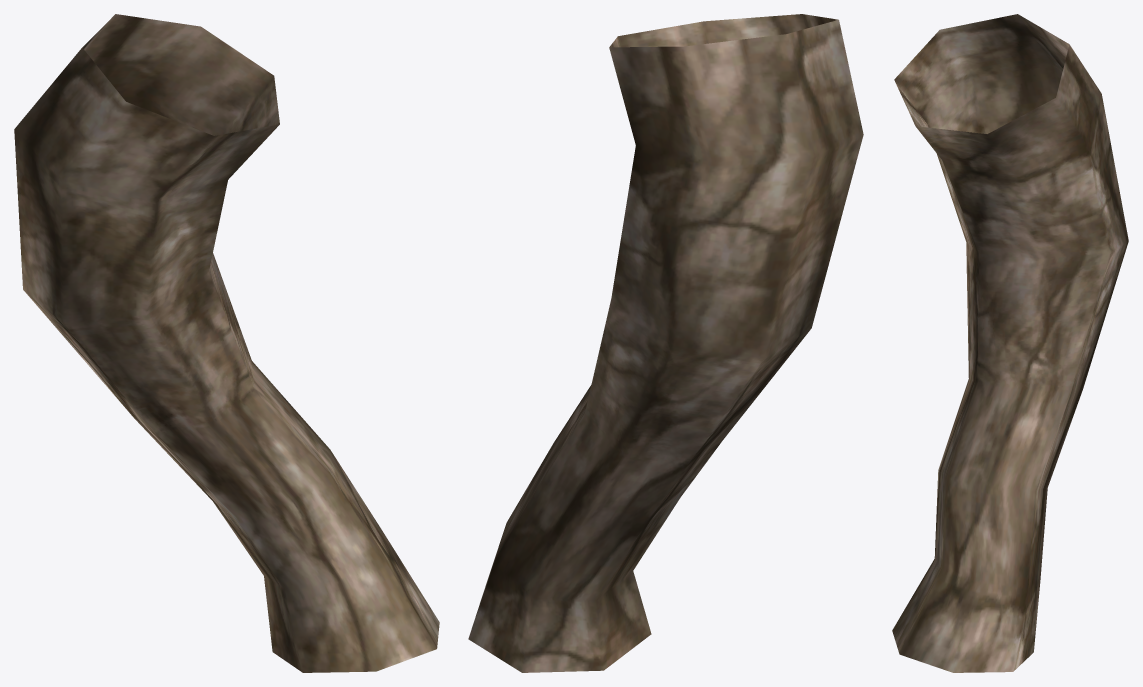
The model's file is EKH_JAIL_PS_JA_PILLAR93911.fbx.
The picture shows the model from 3 angles, left to right: view 1: azimuth 30°, elevation 25°; view 2: azimuth 150°, elevation 25°; view 3: azimuth 270°, elevation 25°; orthographic projection. The views are drawn at different scales.
Parts seen in each view (by area): view 1: EKH_JAIL_PS_JA_PILLAR93911; view 2: EKH_JAIL_PS_JA_PILLAR93911; view 3: EKH_JAIL_PS_JA_PILLAR93911.
Boxes of the visible parts, left/top/right/bottom form: EKH_JAIL_PS_JA_PILLAR93911: left=14, top=14, right=439, bottom=672; EKH_JAIL_PS_JA_PILLAR93911: left=468, top=14, right=863, bottom=672; EKH_JAIL_PS_JA_PILLAR93911: left=892, top=14, right=1128, bottom=672.
Size of the model in its own units: 31119 by 52105 by 20636.
Materials: 1 (1 with a texture image).
